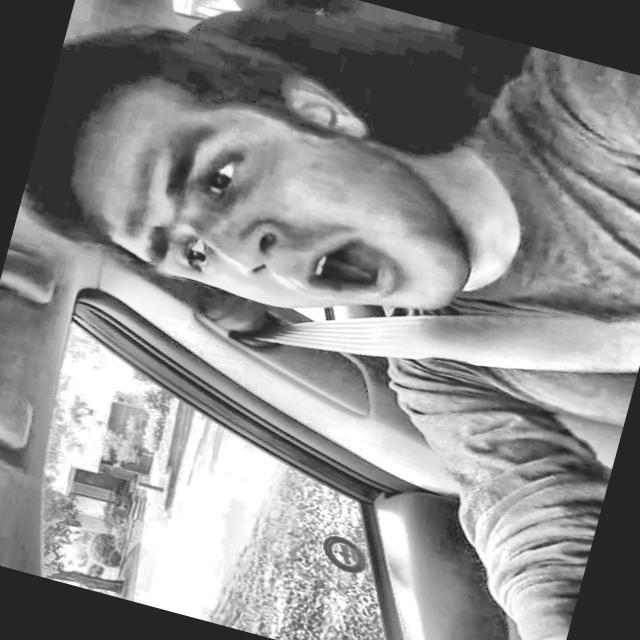open_eyes: (186, 143, 253, 213), (165, 224, 226, 290)
open_mouth: (291, 223, 418, 318)
